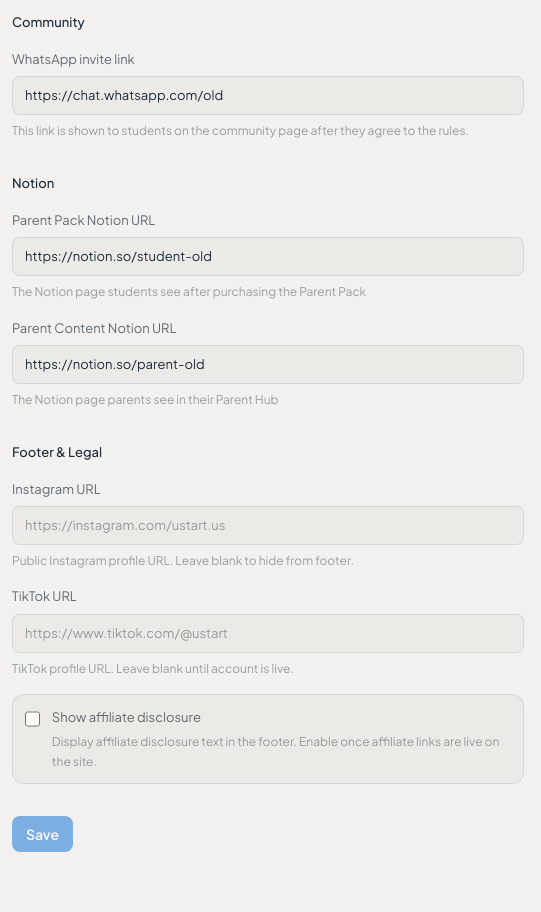
Test: SettingsForm › shows success message after successful save
The width and height of the screenshot is (541, 912).
Step 1. Replace the text in the field labelled "Parent Pack Notion URL" with "https://notion.so/student-new" → (268,257), box [12,237,524,276]
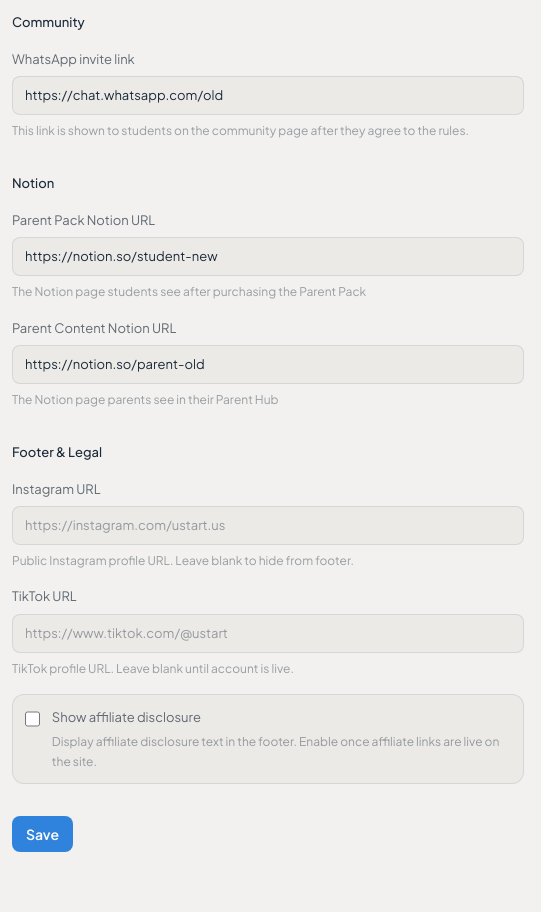
Step 2. Submit the form named "save"
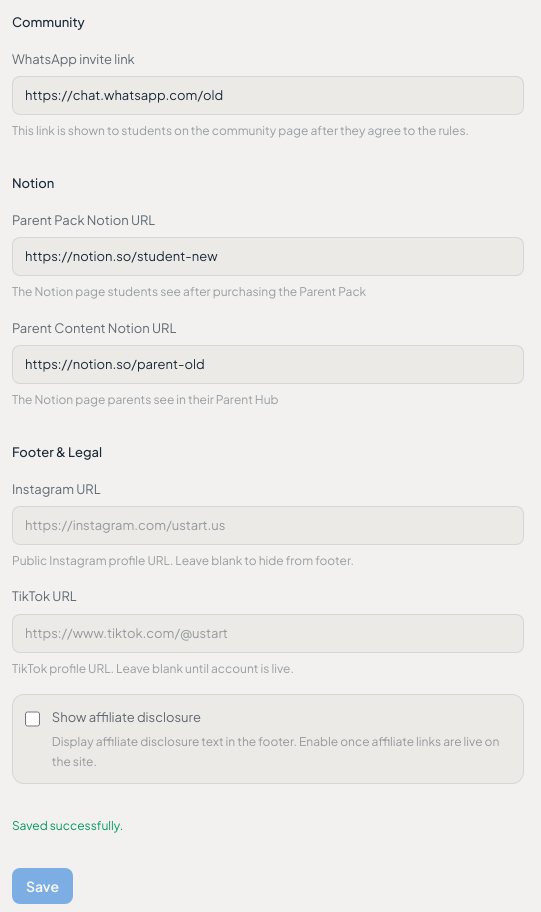
Check: the text "Saved successfully." is shown, box [12,818,123,833]
